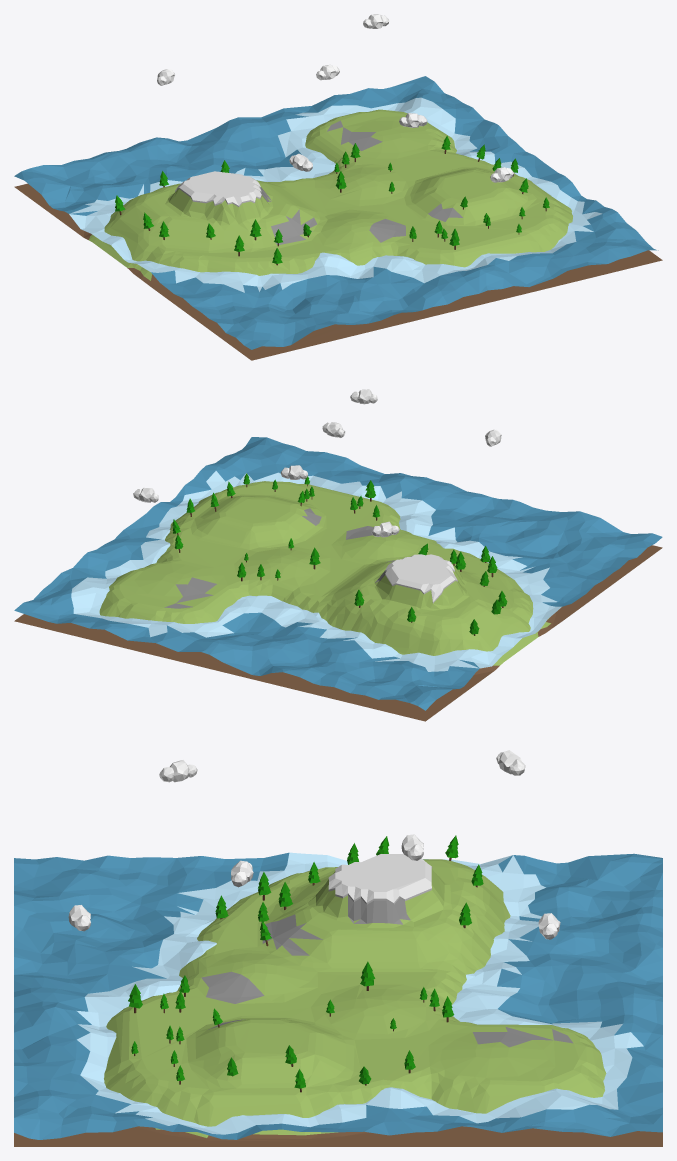
Rendered from map.glb.
The picture shows the model from 3 angles, top to bottom: view 1: azimuth 30°, elevation 25°; view 2: azimuth 150°, elevation 25°; view 3: azimuth 270°, elevation 25°; orthographic projection. The views are drawn at different scales.
Parts seen in each view (by area): view 1: ground, water, tree, cloud; view 2: water, ground, tree, cloud; view 3: water, ground, tree, cloud.
Part boxes in pixels (x1,y1,x2,y2): ground: (14, 109, 662, 360); water: (14, 76, 658, 349); tree: (115, 136, 549, 265); cloud: (157, 14, 514, 182); water: (14, 437, 662, 710); ground: (14, 481, 662, 721); tree: (172, 473, 507, 635); cloud: (133, 389, 501, 537); water: (14, 852, 662, 1139); ground: (14, 854, 662, 1146); tree: (128, 835, 483, 1092); cloud: (68, 750, 560, 939).
Bounding box in the file's own units: 40.01 × 12.49 × 40.01.
Materials: 1 (1 with a texture image).
